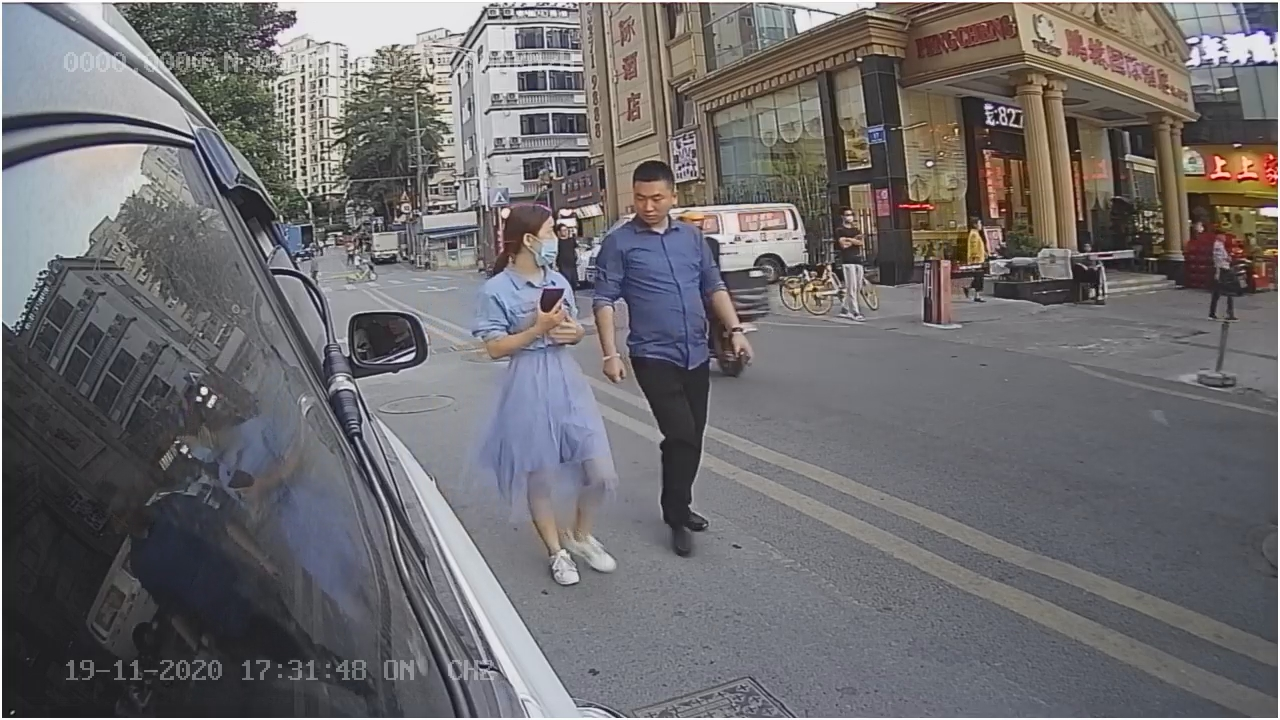person: (601, 180, 741, 512), (478, 194, 597, 531)
